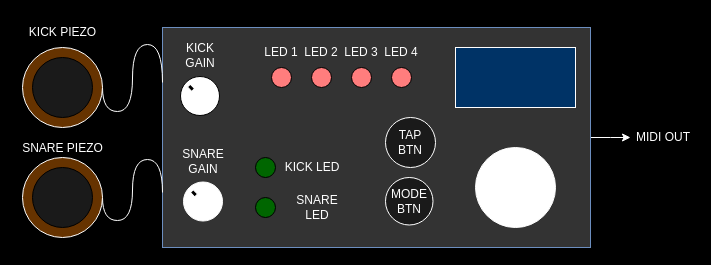
Some shapes in this 711 by 265 pixel diagram are drawn without their labels. The box of each missing label's shape, as (x1, y1, x2, y2) in pixels:
DISPLAY: (454, 46, 576, 108)
ENCODER: (474, 146, 556, 228)
